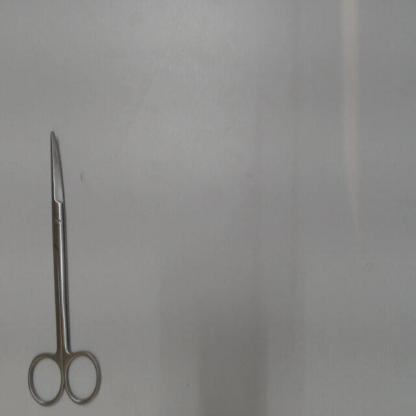Curved Mayo Scissors: (22, 124, 111, 410)
